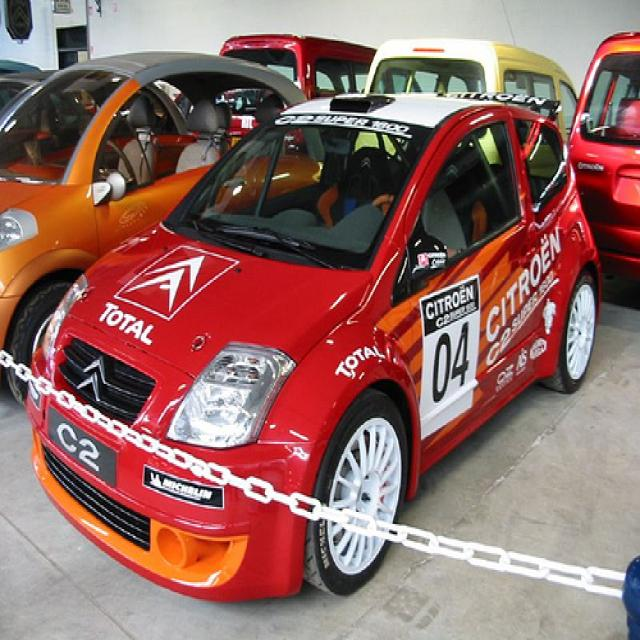car: (25, 90, 603, 605), (1, 51, 326, 402), (363, 39, 580, 148), (571, 34, 640, 314), (219, 33, 379, 100)
